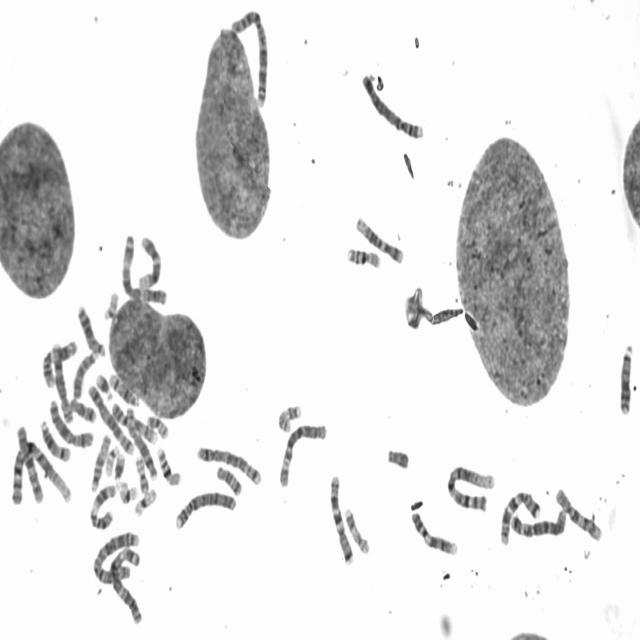A1: (8, 436, 74, 507), (444, 458, 497, 513)
A2: (228, 2, 270, 109), (91, 525, 141, 586)
A3: (119, 227, 168, 305), (106, 538, 144, 626)
B4: (359, 67, 425, 141), (172, 485, 238, 531)
B5: (86, 379, 136, 457), (194, 440, 263, 488)
C10: (552, 482, 604, 543), (13, 421, 45, 506)
C11: (39, 334, 79, 389), (87, 479, 117, 531)
C12: (353, 210, 405, 265), (134, 230, 162, 291)
C6: (276, 417, 328, 489), (506, 503, 568, 540)
C7: (497, 483, 543, 548), (326, 469, 356, 567)
C8: (119, 400, 159, 480), (49, 337, 75, 425)
C9: (408, 506, 459, 557), (109, 398, 159, 445)
D13: (75, 298, 107, 358), (616, 338, 635, 416)
D14: (37, 414, 72, 463), (106, 368, 141, 408)
D15: (87, 428, 112, 494), (70, 346, 98, 401)
E16: (154, 442, 182, 487), (343, 241, 382, 270)
E17: (342, 502, 371, 556), (275, 398, 303, 433)
E18: (214, 460, 243, 496), (67, 392, 98, 423)
F19: (131, 482, 158, 518), (116, 475, 139, 505)
F20: (144, 410, 170, 440), (132, 451, 150, 494)
G21: (92, 367, 114, 402), (111, 448, 126, 482)
G22: (102, 440, 121, 478), (100, 285, 120, 321)
X: (47, 394, 95, 450)
Y: (384, 442, 411, 470)
